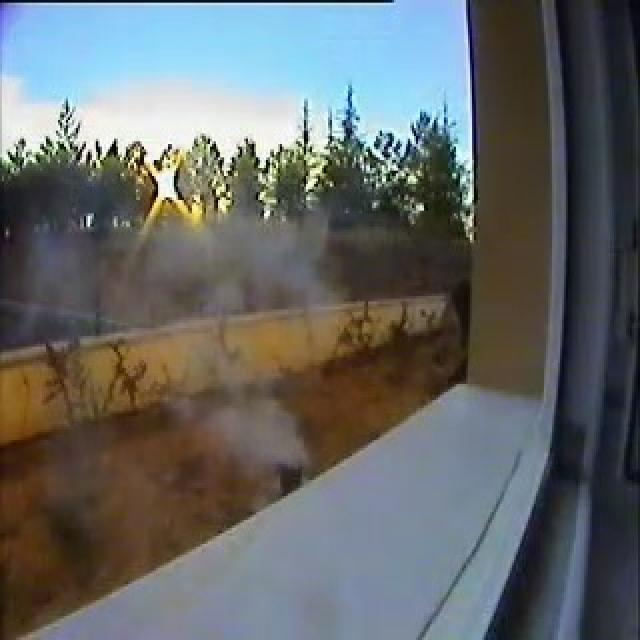smoke: (194, 382, 304, 467)
